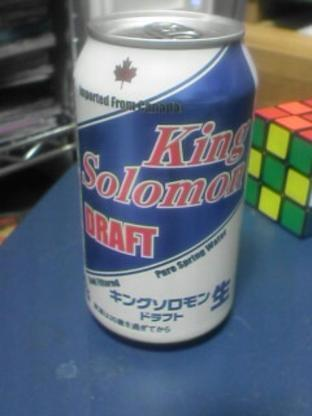Can: (74, 12, 258, 348)
